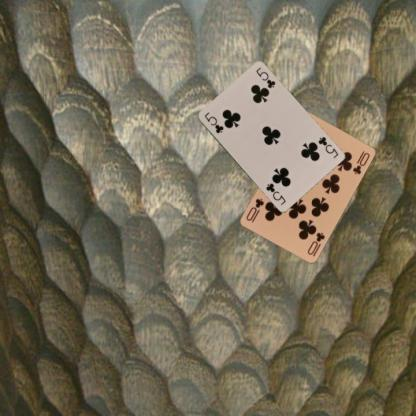10c: (304, 229, 326, 256)
5c: (201, 109, 224, 135), (316, 134, 339, 160)
